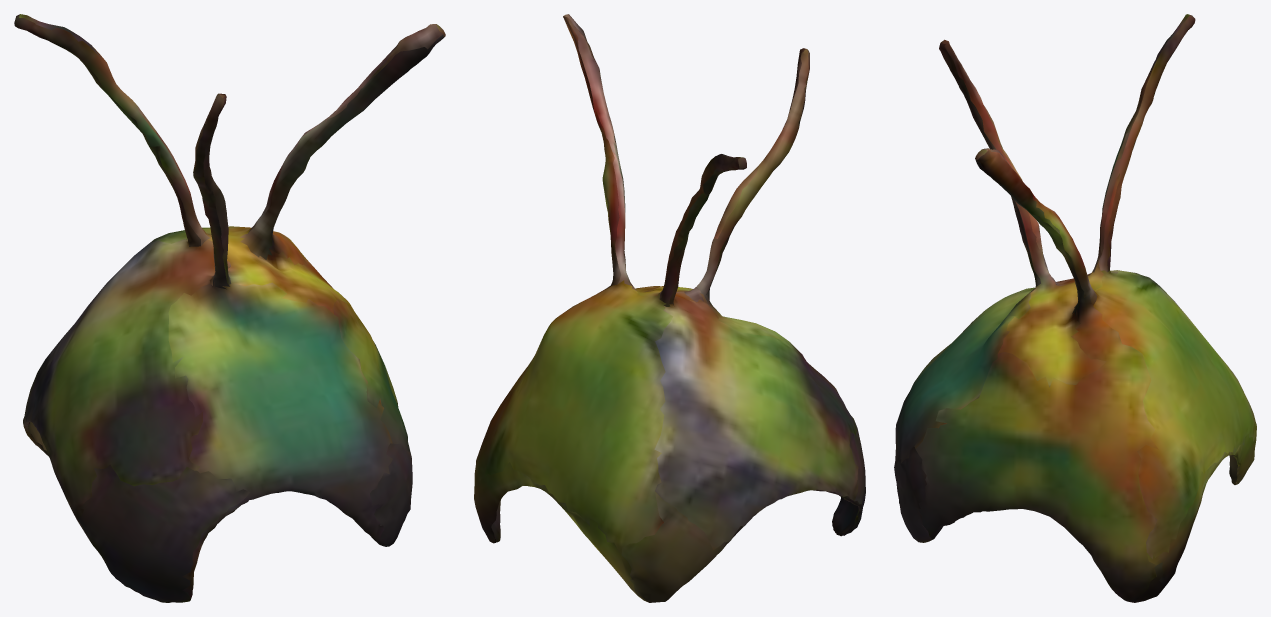
3 views of the same model, side by side, from view 1: azimuth 30°, elevation 25°; view 2: azimuth 150°, elevation 25°; view 3: azimuth 270°, elevation 25° (orthographic). The views are drawn at different scales.
Parts seen in each view (by area): view 1: world; view 2: world; view 3: world.
Part boxes in pixels (x1,y1,x2,y2): world: (14, 14, 445, 602); world: (474, 14, 865, 602); world: (894, 14, 1256, 602).
Bounding box in the file's own units: 0.532 × 0.7415 × 0.5279.
Materials: 1 (1 with a texture image).
